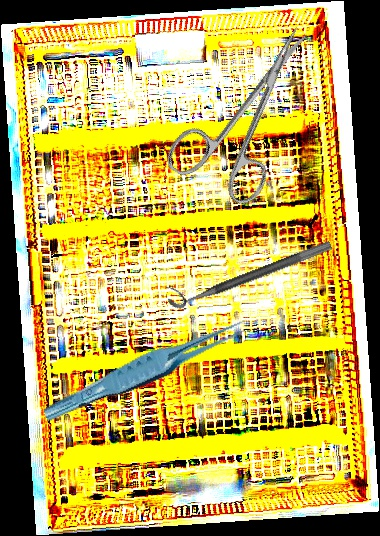Fixation Ring: (163, 227, 333, 312)
Iris Scissors: (160, 5, 347, 217)
Tissue Forceps: (37, 317, 257, 423)
